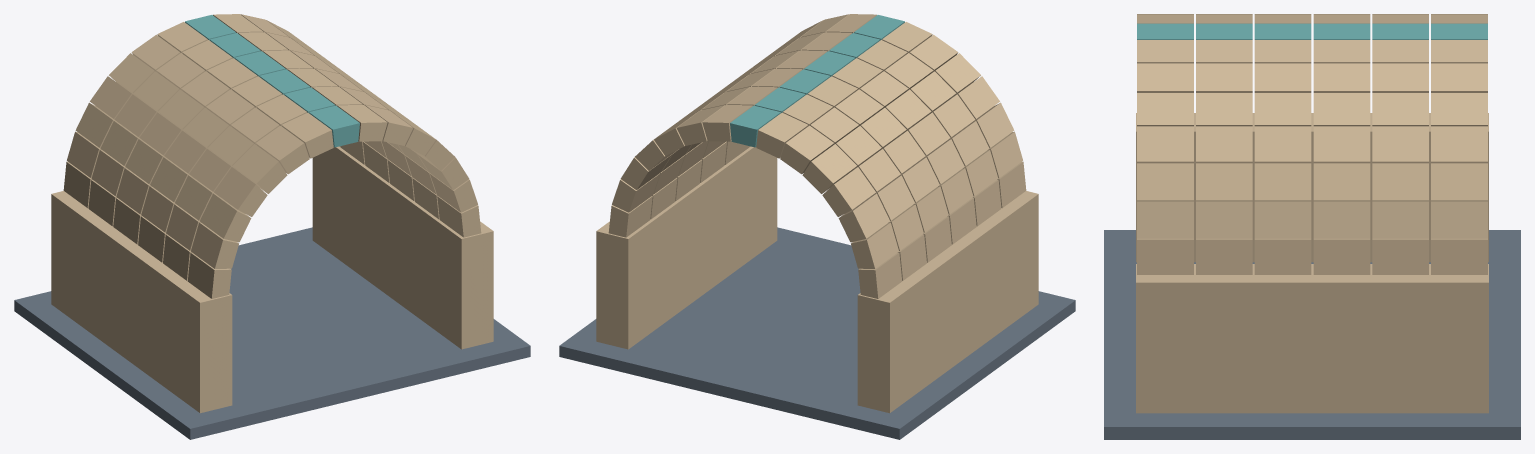
Rendered from sample.glb.
3 renders of one model, left to right at view 1: azimuth 30°, elevation 25°; view 2: azimuth 150°, elevation 25°; view 3: azimuth 270°, elevation 25°, orthographic. The views are drawn at different scales.
Visible parts, largest first — view 1: DISPLAY_plinth, support_wall, support_wall.001, ring_00_voussoir_10, ring_00_voussoir_12, ring_00_voussoir_11, ring_00_voussoir_09, ring_00_voussoir_13, ring_00_voussoir_08, ring_00_voussoir_14, ring_00_voussoir_07, ring_00_voussoir_00 (+54 smaller); view 2: DISPLAY_plinth, support_wall, support_wall.001, ring_05_voussoir_10, ring_05_voussoir_12, ring_05_voussoir_11, ring_05_voussoir_09, ring_05_voussoir_13, ring_05_voussoir_08, ring_05_voussoir_14, ring_05_voussoir_07, ring_05_voussoir_00 (+54 smaller); view 3: support_wall.001, DISPLAY_plinth, support_wall, ring_02_voussoir_01, ring_02_voussoir_02, ring_02_voussoir_03, ring_03_voussoir_01, ring_03_voussoir_02, ring_03_voussoir_03, ring_00_voussoir_01, ring_00_voussoir_02, ring_00_voussoir_03 (+45 smaller).
Part boxes in pixels (x1,y1,x2,y2): DISPLAY_plinth: [14, 227, 530, 439]; support_wall: [51, 191, 232, 413]; support_wall.001: [312, 146, 493, 349]; ring_00_voussoir_10: [233, 144, 287, 193]; ring_00_voussoir_12: [200, 193, 251, 242]; ring_00_voussoir_11: [214, 167, 267, 216]; ring_00_voussoir_09: [256, 125, 309, 174]; ring_00_voussoir_13: [191, 222, 238, 268]; ring_00_voussoir_08: [281, 112, 333, 158]; ring_00_voussoir_14: [187, 252, 231, 298]; ring_00_voussoir_07: [309, 105, 359, 147]; ring_00_voussoir_00: [437, 196, 481, 237]; DISPLAY_plinth: [559, 227, 1075, 439]; support_wall: [857, 191, 1038, 413]; support_wall.001: [596, 146, 777, 349]; ring_05_voussoir_10: [802, 144, 856, 193]; ring_05_voussoir_12: [838, 193, 889, 242]; ring_05_voussoir_11: [822, 167, 875, 216]; ring_05_voussoir_09: [780, 125, 833, 174]; ring_05_voussoir_13: [851, 222, 898, 268]; ring_05_voussoir_08: [756, 112, 808, 158]; ring_05_voussoir_14: [858, 252, 902, 298]; ring_05_voussoir_07: [730, 105, 780, 147]; ring_05_voussoir_00: [608, 196, 652, 237]; support_wall.001: [1136, 264, 1488, 413]; DISPLAY_plinth: [1104, 230, 1520, 439]; support_wall: [1136, 113, 1488, 262]; ring_02_voussoir_01: [1254, 201, 1311, 238]; ring_02_voussoir_02: [1254, 163, 1311, 200]; ring_02_voussoir_03: [1254, 126, 1311, 163]; ring_03_voussoir_01: [1313, 201, 1370, 238]; ring_03_voussoir_02: [1313, 163, 1370, 200]; ring_03_voussoir_03: [1313, 126, 1370, 163]; ring_00_voussoir_01: [1137, 201, 1193, 238]; ring_00_voussoir_02: [1137, 163, 1193, 200]; ring_00_voussoir_03: [1137, 126, 1193, 163].
Bounding box in the file's own units: 5.81 × 4.27 × 5.2.
